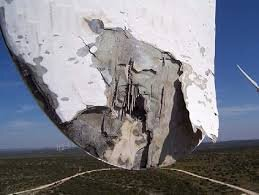faulty: (31, 19, 219, 166)
